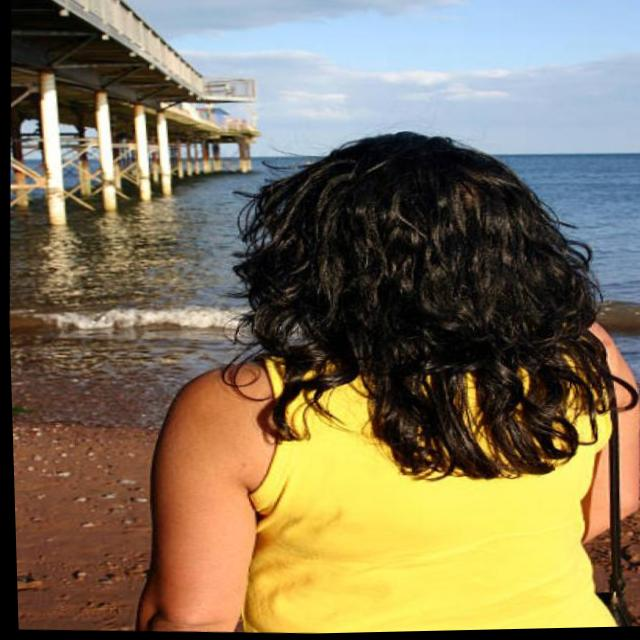no helmet: (290, 124, 540, 366)
